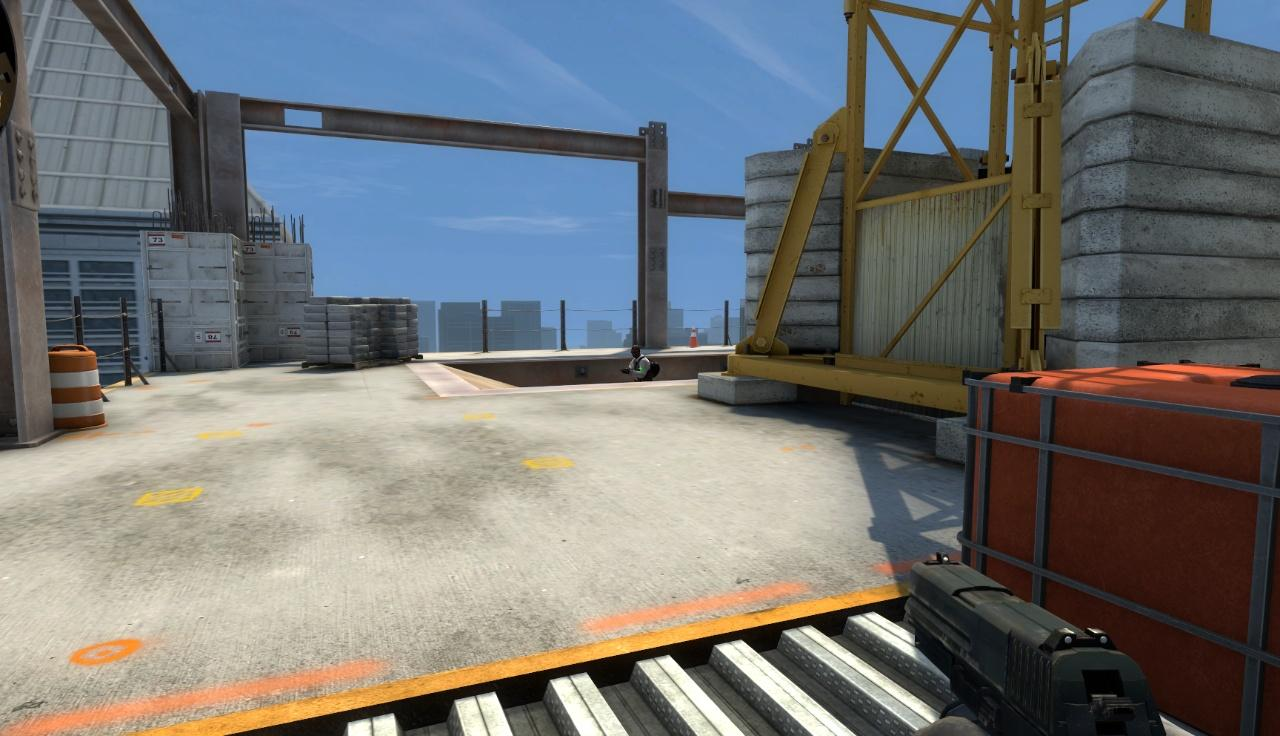pistol: (903, 552, 1169, 733)
tt: (626, 345, 660, 382)
tthead: (630, 346, 641, 358)
